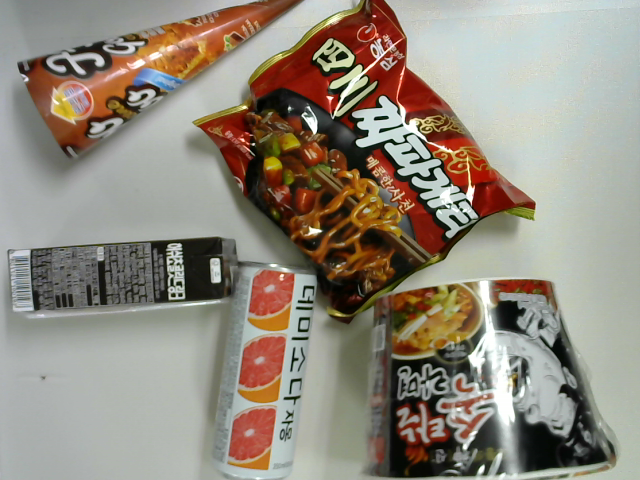Demisoda_Grapefruit_Can_250ml: (206, 258, 325, 480)
GooGoo_Cone_CVS: (13, 1, 311, 171)
HeJangsock: (352, 274, 630, 480)
Hush_Choco_Drink: (1, 228, 254, 330)
Sichuan_Chapaghetti: (187, 1, 545, 336)
